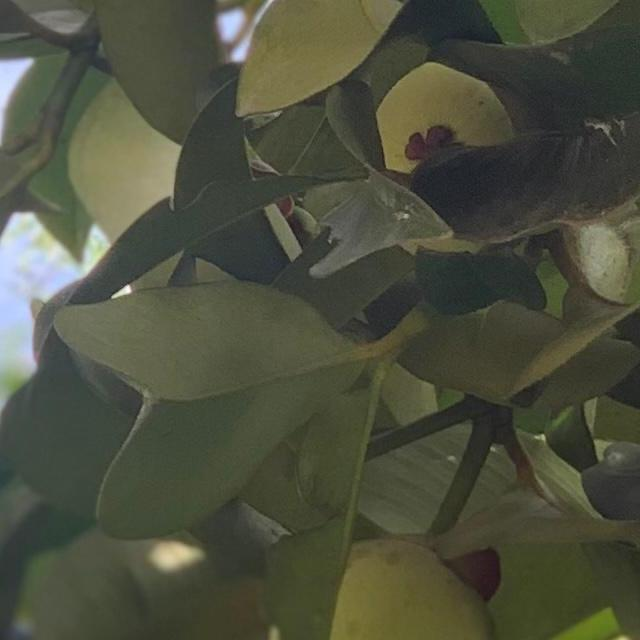mangosteen: (258, 526, 508, 640)
